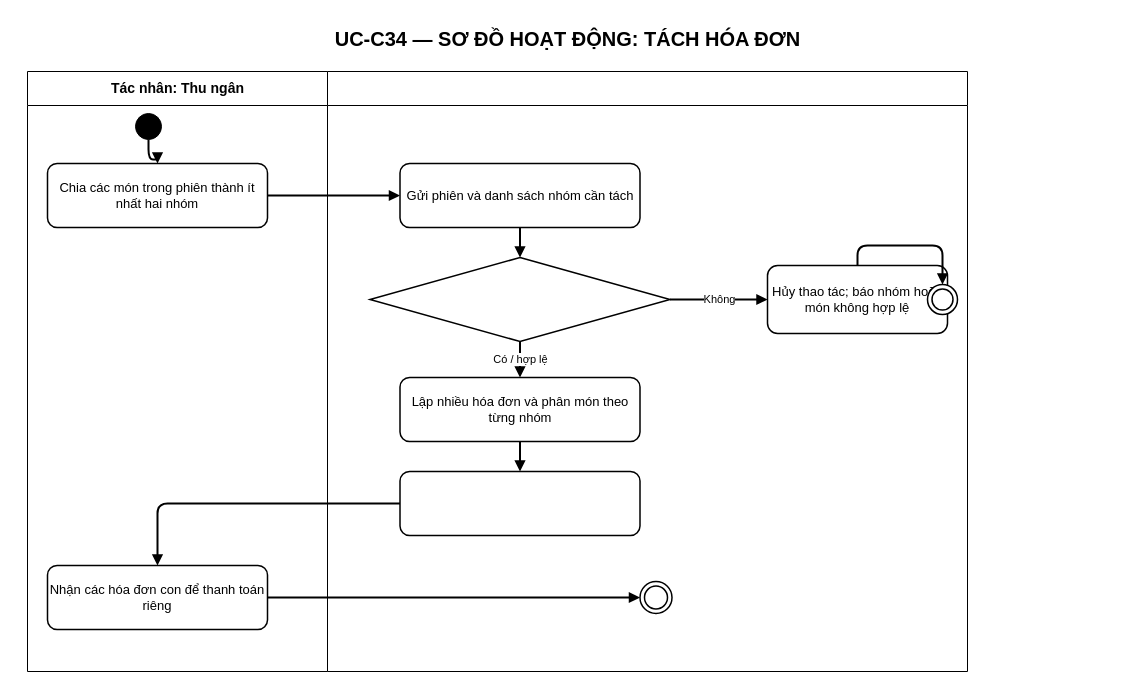
The diagram is 1134 pixels wide and 689 high, and some of its shapes have lost their labels. The shapes that lost their labels are listed below. From the top down, each one's box as (x1, y1, x2, y2) in pixels, then its label:
(369, 256, 670, 342): Các nhóm phủ đúng món, không trùng và có từ hai nhóm?
(326, 70, 968, 672): Hệ thống
(399, 470, 640, 536): Báo các màn hình liên quan danh sách hóa đơn con
